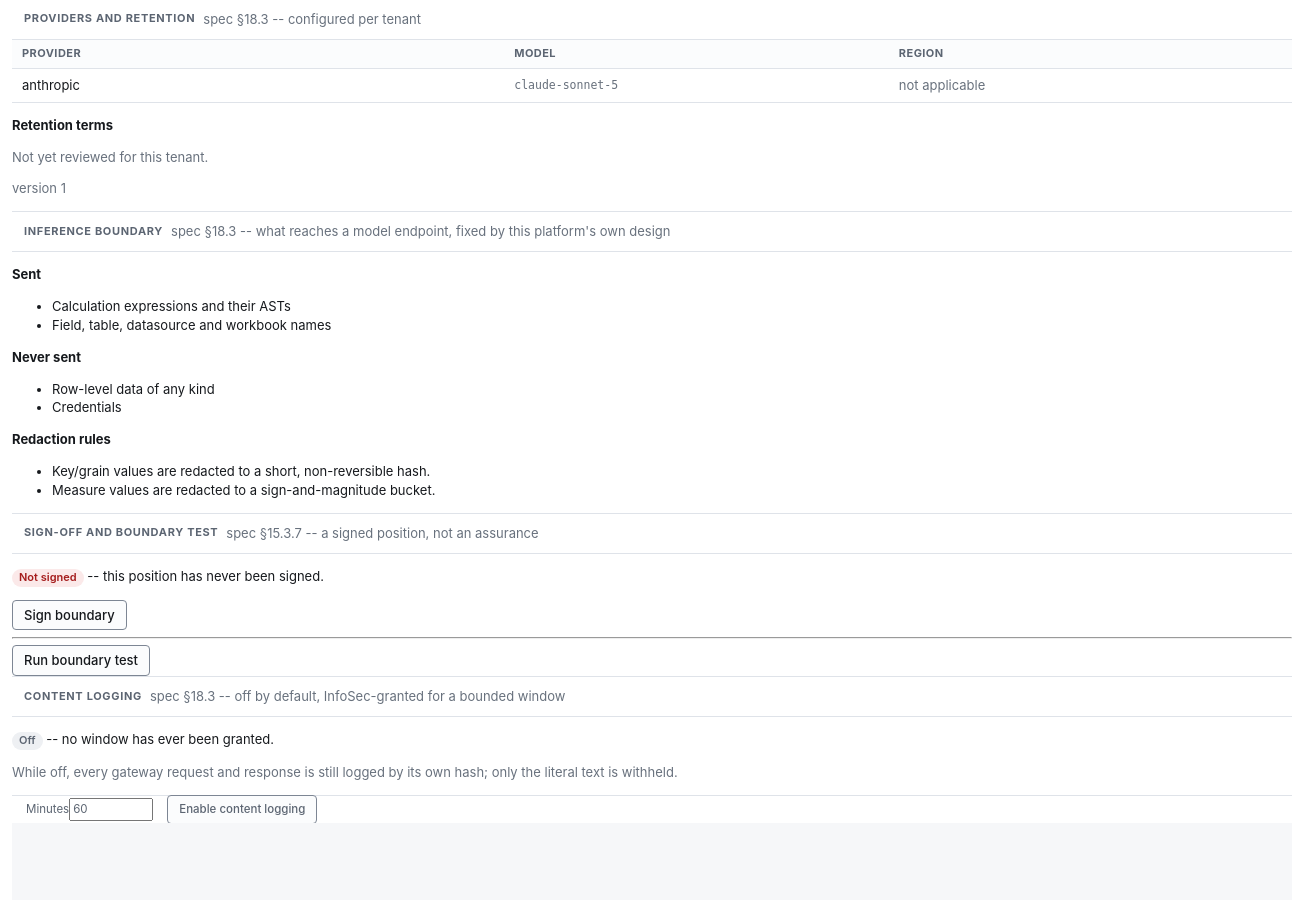
Test: sign-off › lets the InfoSec reviewer sign the current position
Check: the text "Not signed" is shown, box [12,569,84,586]
Click the button "Sign boundary".
click(69, 615)  # box [12,600,127,630]
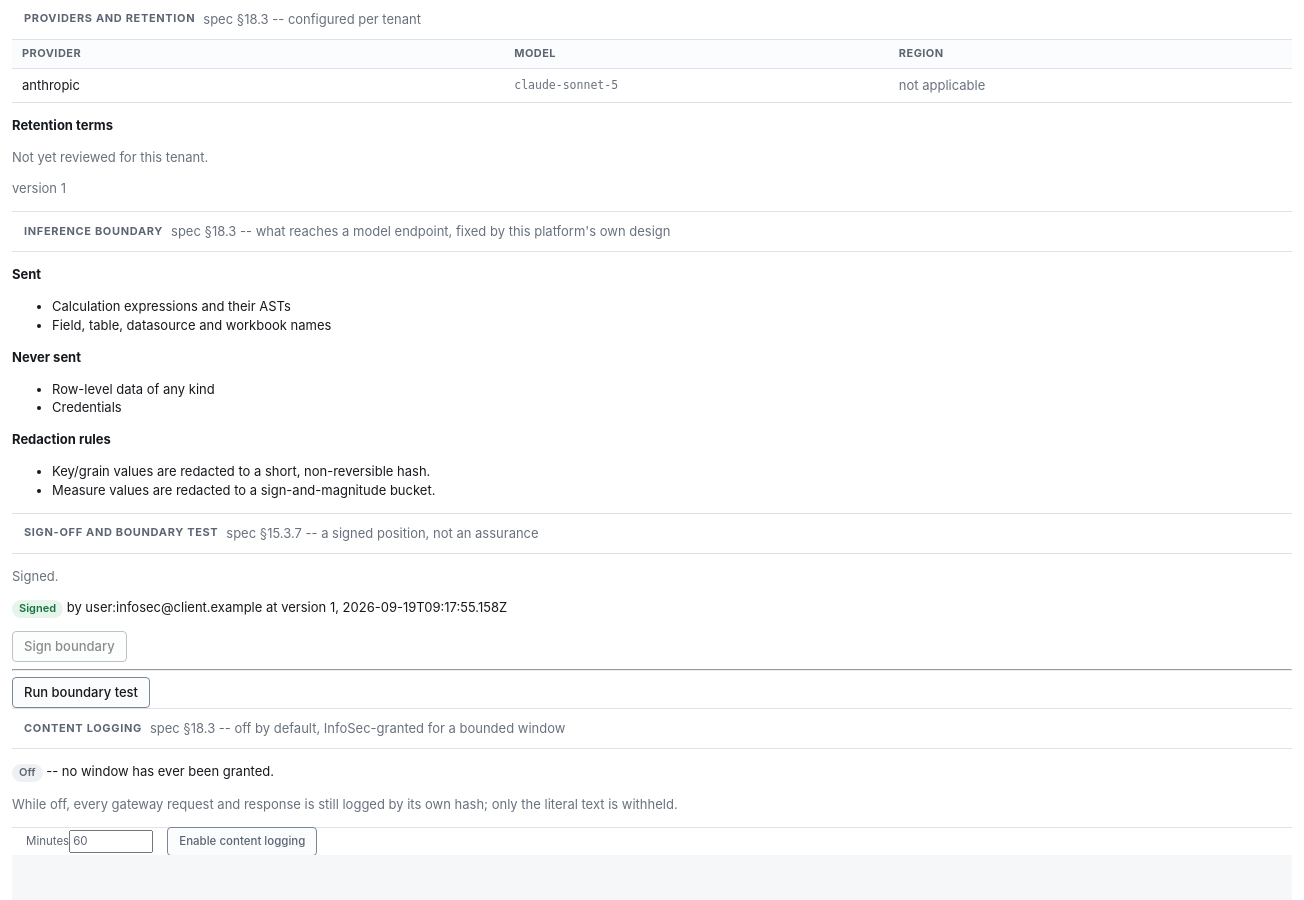
Check: the text "Signed" is shown, box [12,600,63,618]
Check: the text "user:infosec@client.example" is shown, box [85,599,262,615]
